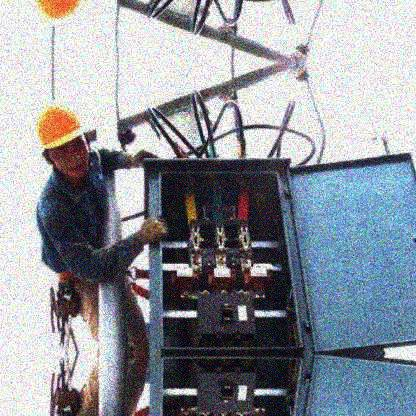helmet: (35, 104, 91, 182)
